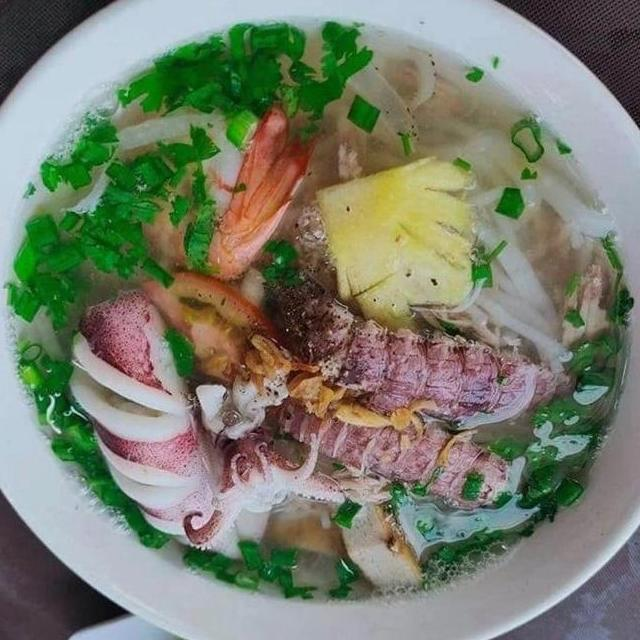bun: (412, 124, 626, 386)
bun hai san: (20, 24, 640, 640)
muc: (59, 282, 256, 564), (178, 352, 402, 554)
tom: (128, 92, 328, 286)
tom tit: (240, 244, 582, 434), (225, 358, 522, 512)
